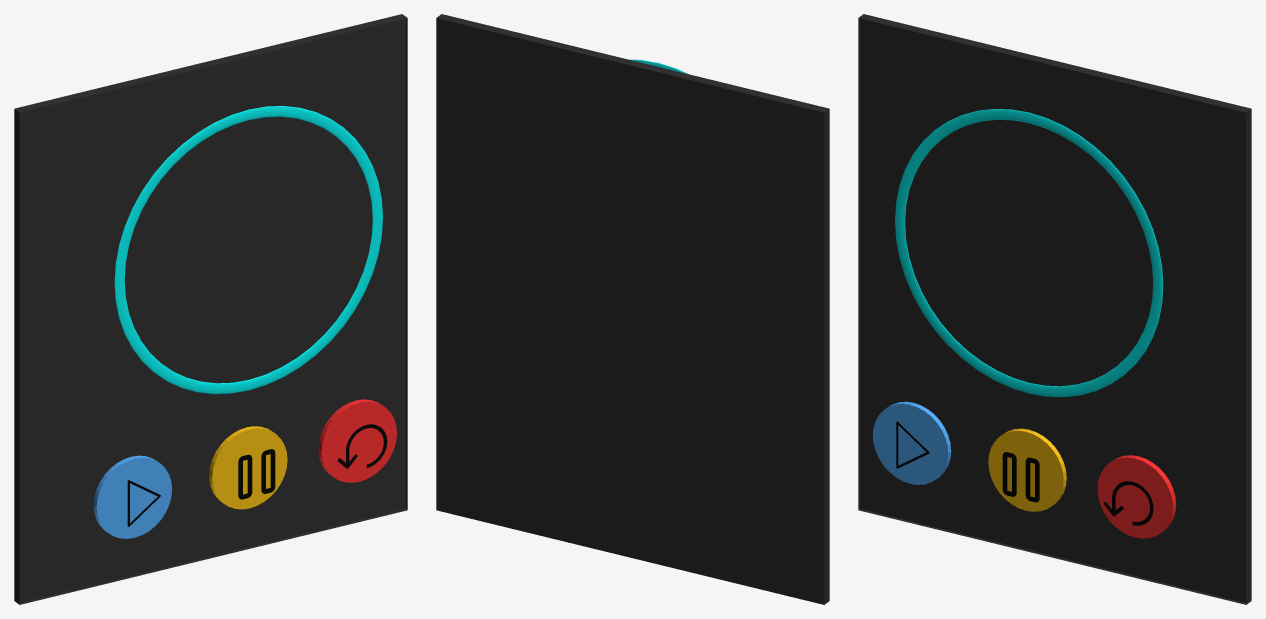
The model's file is FocusAR2teste.glb.
3 renders of one model, left to right at view 1: azimuth 30°, elevation 25°; view 2: azimuth 150°, elevation 25°; view 3: azimuth 330°, elevation 25°, orthographic.
Parts seen in each view (by area): view 1: Painel, Anel, Botao_Iniciar, Botao_Reiniciar, Botao_Pausar, Curve.001, Curve.002; view 2: Painel; view 3: Painel, Anel, Botao_Iniciar, Botao_Reiniciar, Botao_Pausar, Curve.001, Curve.002.
Part boxes in pixels (x1=…): Painel: x1=14, y1=14, x2=407, y2=604; Anel: x1=114, y1=106, x2=382, y2=394; Botao_Iniciar: x1=93, y1=455, x2=171, y2=538; Botao_Reiniciar: x1=318, y1=399, x2=396, y2=482; Botao_Pausar: x1=209, y1=426, x2=287, y2=509; Curve.001: x1=238, y1=449, x2=275, y2=499; Curve.002: x1=337, y1=424, x2=387, y2=468; Painel: x1=436, y1=14, x2=829, y2=604; Painel: x1=858, y1=14, x2=1251, y2=604; Anel: x1=895, y1=109, x2=1163, y2=397; Botao_Iniciar: x1=872, y1=401, x2=951, y2=484; Botao_Reiniciar: x1=1097, y1=455, x2=1176, y2=538; Botao_Pausar: x1=988, y1=428, x2=1066, y2=511; Curve.001: x1=1002, y1=452, x2=1039, y2=502; Curve.002: x1=1103, y1=481, x2=1153, y2=525.
Size of the model in its own units: 0.4096 by 0.4965 by 0.0778.
